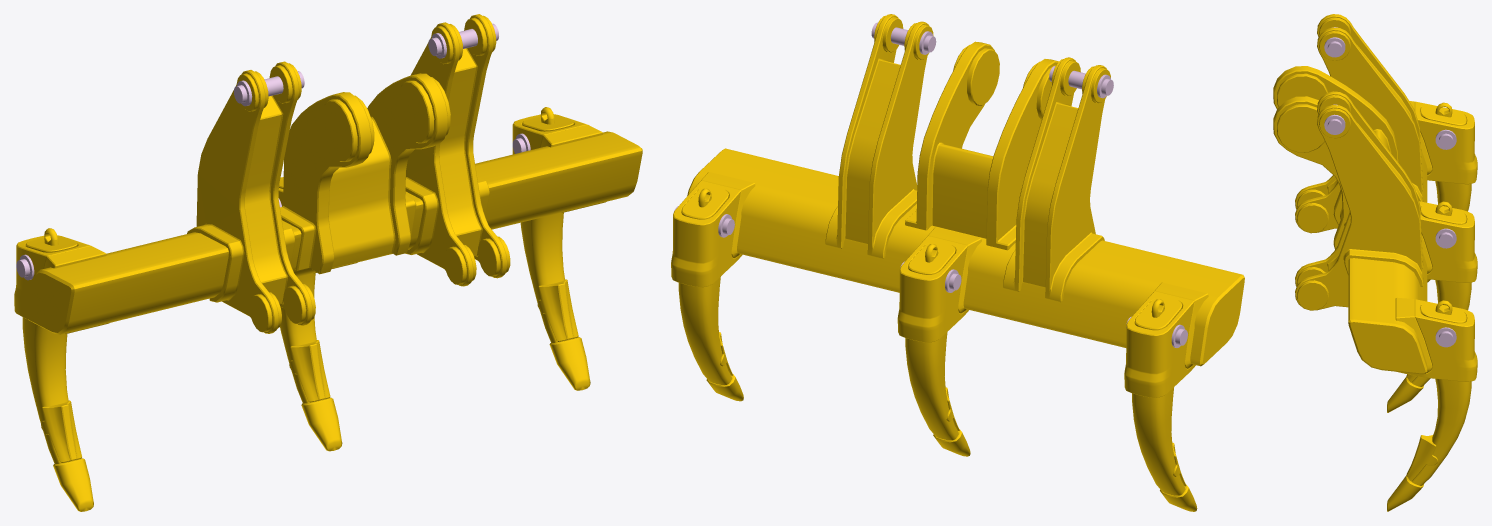
The model's file is Earthmover_Body_Ripper_01a_snaps005.fbx.
The picture shows the model from 3 angles, left to right: view 1: azimuth 30°, elevation 25°; view 2: azimuth 150°, elevation 25°; view 3: azimuth 270°, elevation 25°; orthographic projection. The views are drawn at different scales.
Parts seen in each view (by area): view 1: Earthmover_Body_Ripper_01a_snaps005; view 2: Earthmover_Body_Ripper_01a_snaps005; view 3: Earthmover_Body_Ripper_01a_snaps005.
Part boxes in pixels (<box>): Earthmover_Body_Ripper_01a_snaps005: <box>14,14,642,511</box>; Earthmover_Body_Ripper_01a_snaps005: <box>671,14,1244,511</box>; Earthmover_Body_Ripper_01a_snaps005: <box>1273,14,1477,511</box>.
Bounding box in the file's own units: 276 × 199 × 105.
